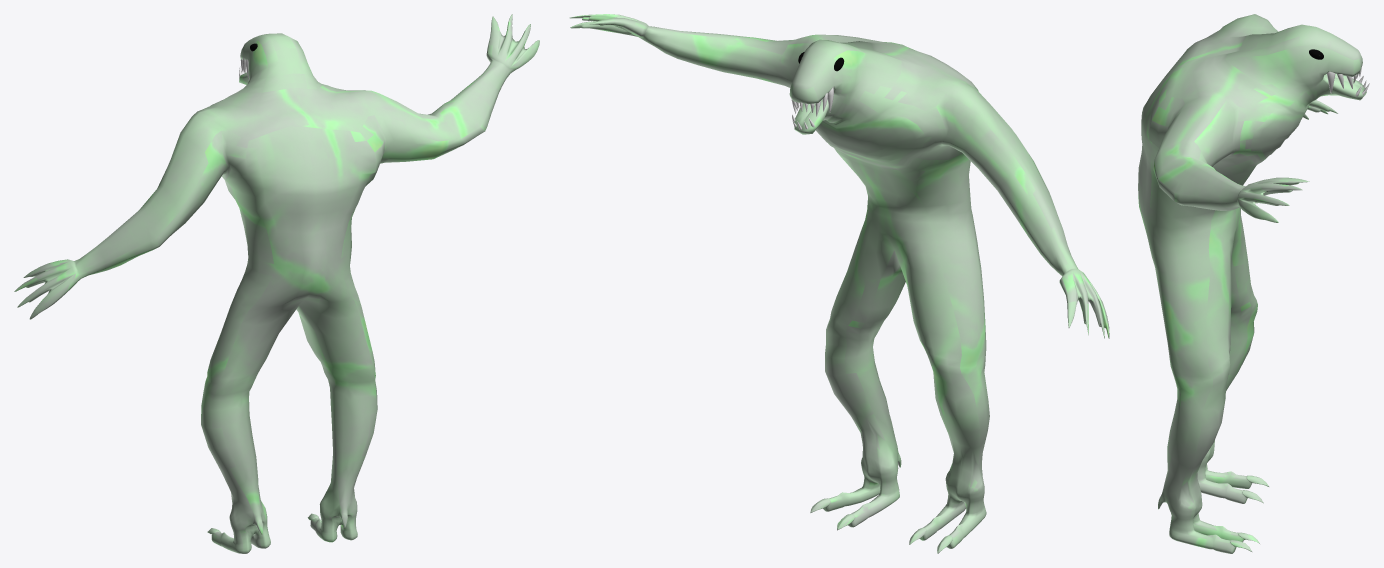
File: Berserkeraranar.0027.obj
3 views of the same model, side by side, from view 1: azimuth 30°, elevation 25°; view 2: azimuth 150°, elevation 25°; view 3: azimuth 270°, elevation 25° (orthographic). The views are drawn at different scales.
Visible parts, largest first — view 1: polySurface27; view 2: polySurface27; view 3: polySurface27.
Part boxes in pixels (x1,y1,x2,y2): polySurface27: [14, 14, 539, 553]; polySurface27: [569, 14, 1109, 553]; polySurface27: [1138, 14, 1369, 553].
Bounding box in the file's own units: 26.31 × 23.31 × 9.58.
1 material, 1 textured.
